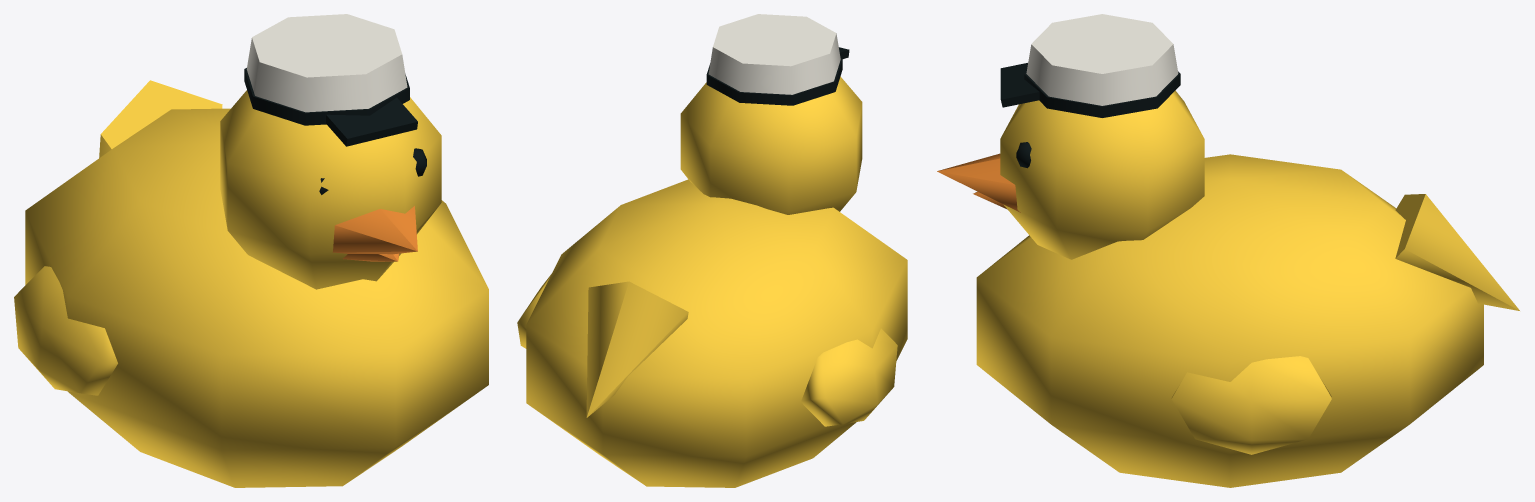
Rendered from duck-captain.glb.
The picture shows the model from 3 angles, left to right: view 1: azimuth 30°, elevation 25°; view 2: azimuth 150°, elevation 25°; view 3: azimuth 270°, elevation 25°; orthographic projection. The views are drawn at different scales.
Visible parts, largest first — view 1: CouncilDuck_captain; view 2: CouncilDuck_captain; view 3: CouncilDuck_captain.
Boxes of the visible parts, x1,y1,x2,y2 form: CouncilDuck_captain: (14,14,488,487); CouncilDuck_captain: (517,14,907,487); CouncilDuck_captain: (937,14,1519,487).
Size of the model in its own units: 2.46 by 2.6 by 3.29.
